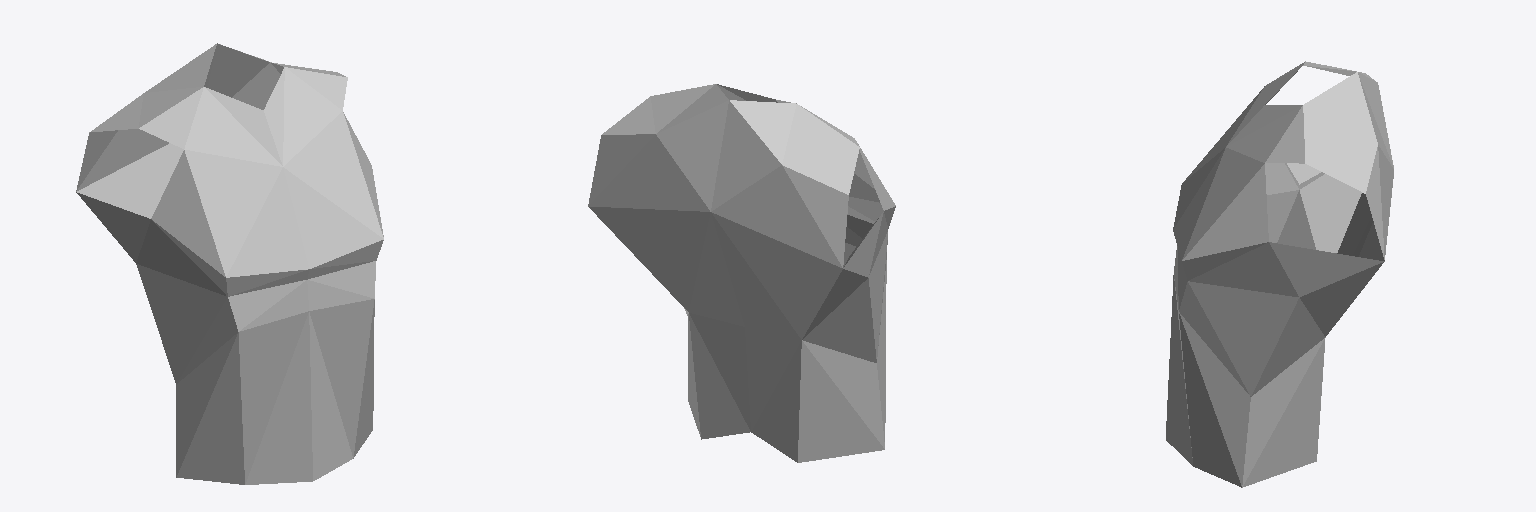
The model's file is 02-torso.obj.
The picture shows the model from 3 angles: view 1: azimuth 30°, elevation 25°; view 2: azimuth 150°, elevation 25°; view 3: azimuth 270°, elevation 25°; orthographic projection.
Visible parts, largest first — view 1: Man_Body; view 2: Man_Body; view 3: Man_Body.
Boxes of the visible parts, x1,y1,x2,y2 form: Man_Body: [76, 43, 383, 484]; Man_Body: [588, 84, 895, 462]; Man_Body: [1166, 61, 1393, 487].
Size of the model in its own units: 1.32 by 1.82 by 1.02.